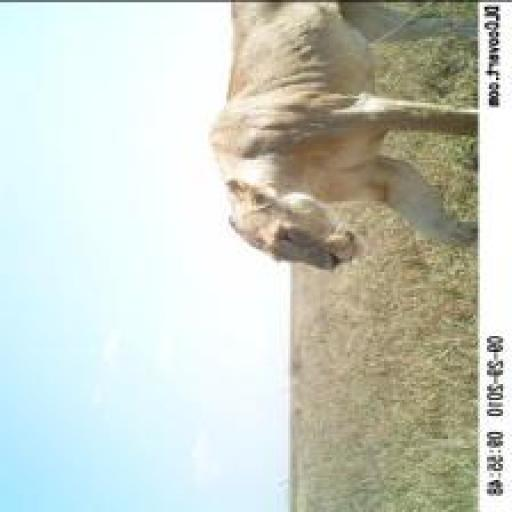lion: (174, 2, 482, 278)
